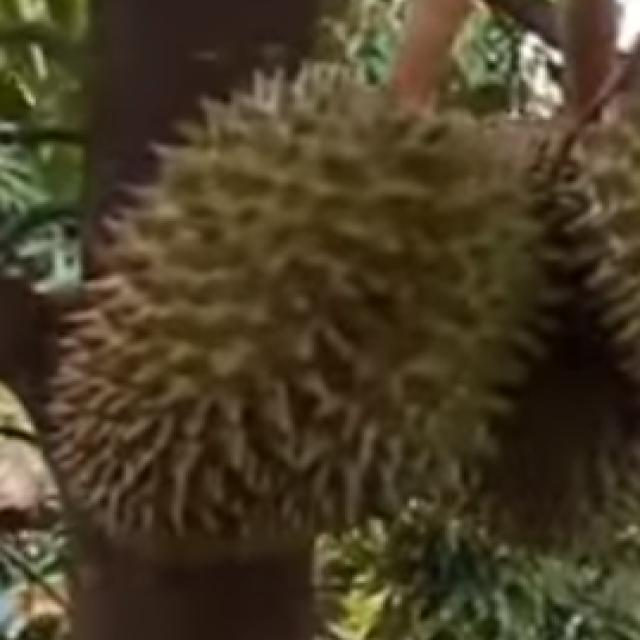mature: (49, 53, 558, 568)
